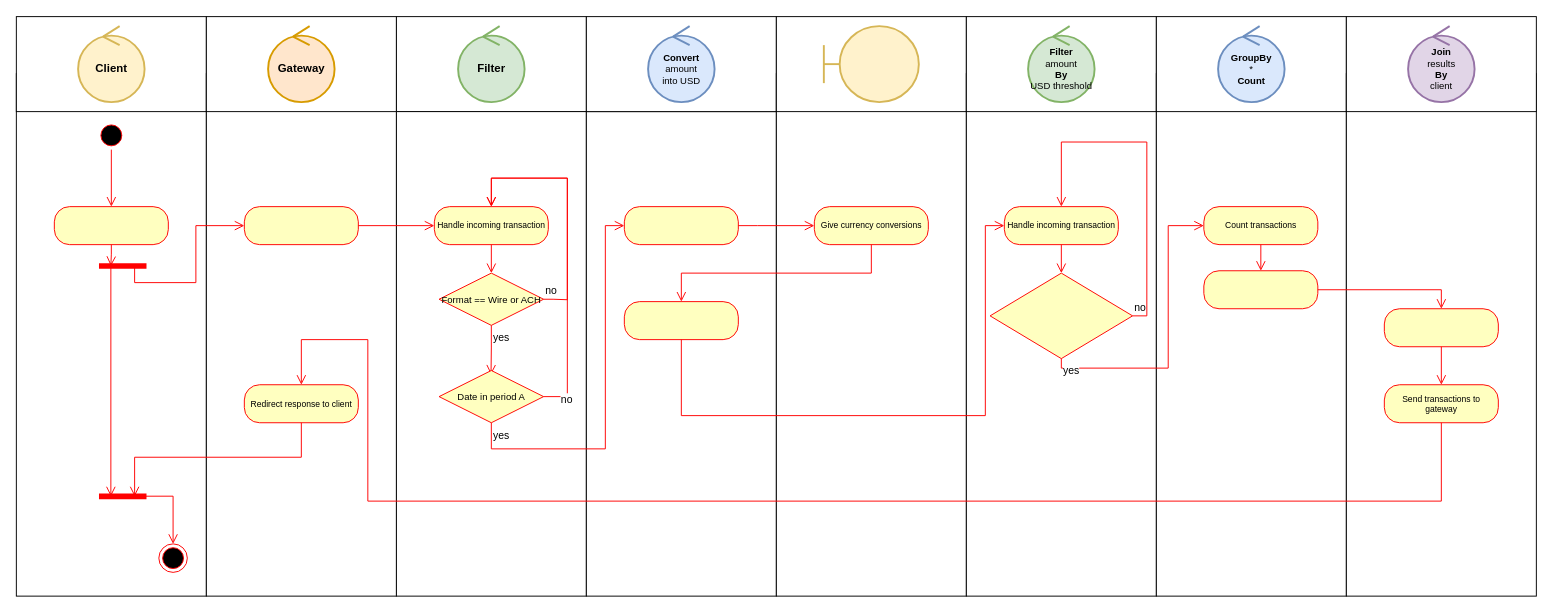
This 1553x613 diagram has some shape labels left out. Each missing label, with the box of its shape:
Amount < $1: (989, 272, 1133, 359)
Form batch and request convertion API: (623, 206, 738, 245)
Read transactions from file by batches: (53, 206, 168, 245)
Redirect transaction batch to filters: (243, 206, 358, 245)
Reformat transactions in US amounts: (623, 301, 738, 340)
Route by client: (1203, 270, 1318, 309)
Sum all counts and format response: (1383, 308, 1498, 347)
USD conversion external API: (822, 25, 919, 103)
